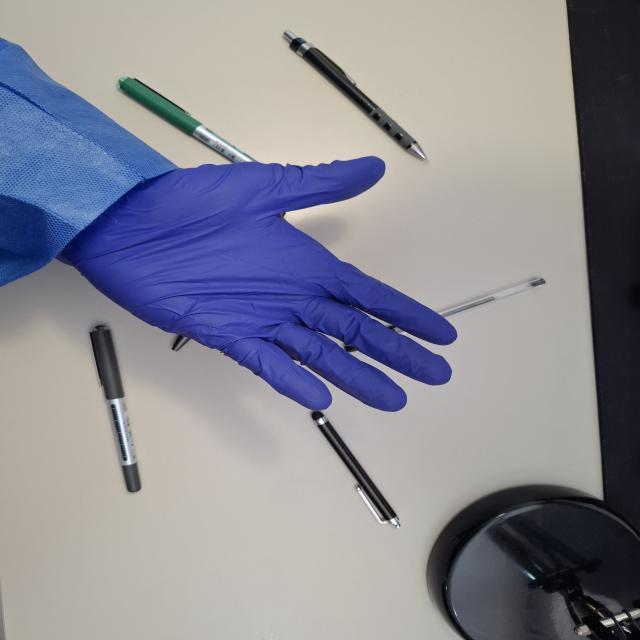glove_on: (54, 152, 463, 415)
